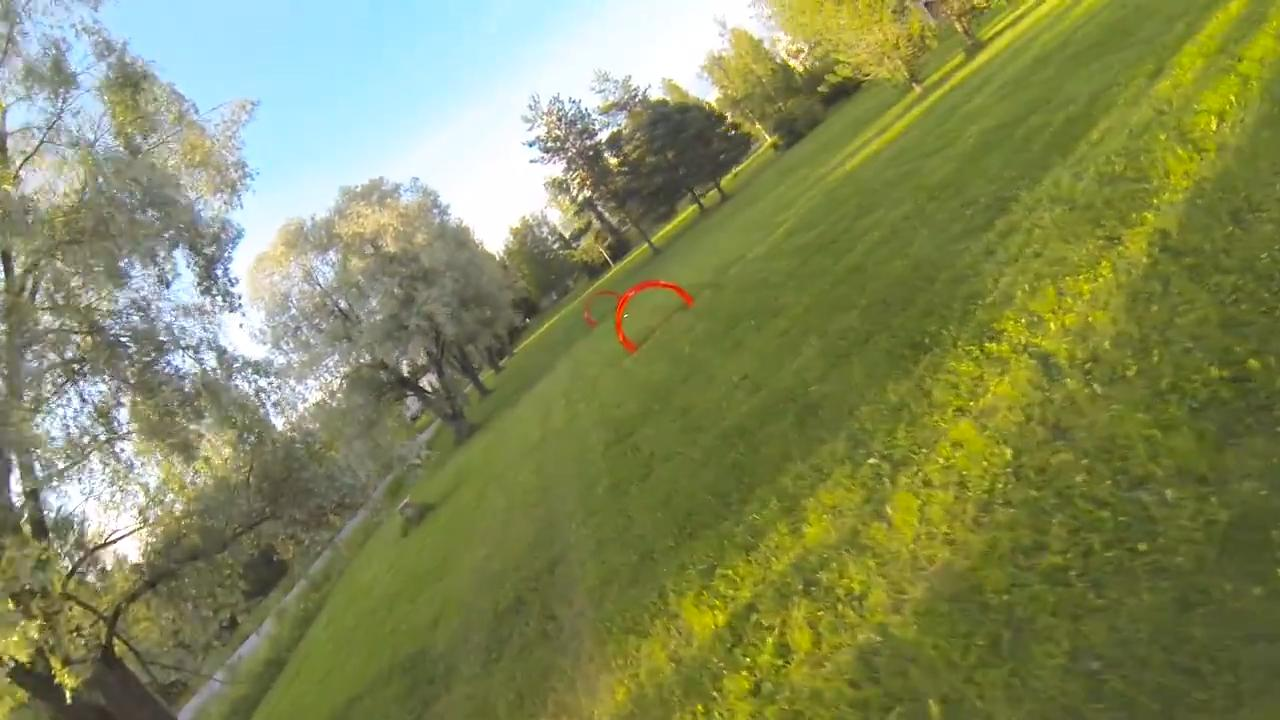gate: (611, 279, 692, 356)
